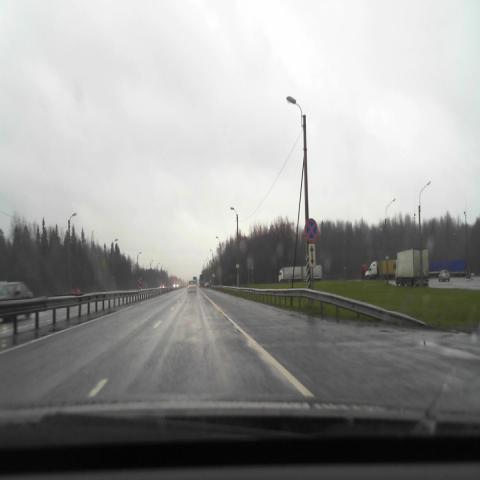3_27: (304, 219, 318, 242)
